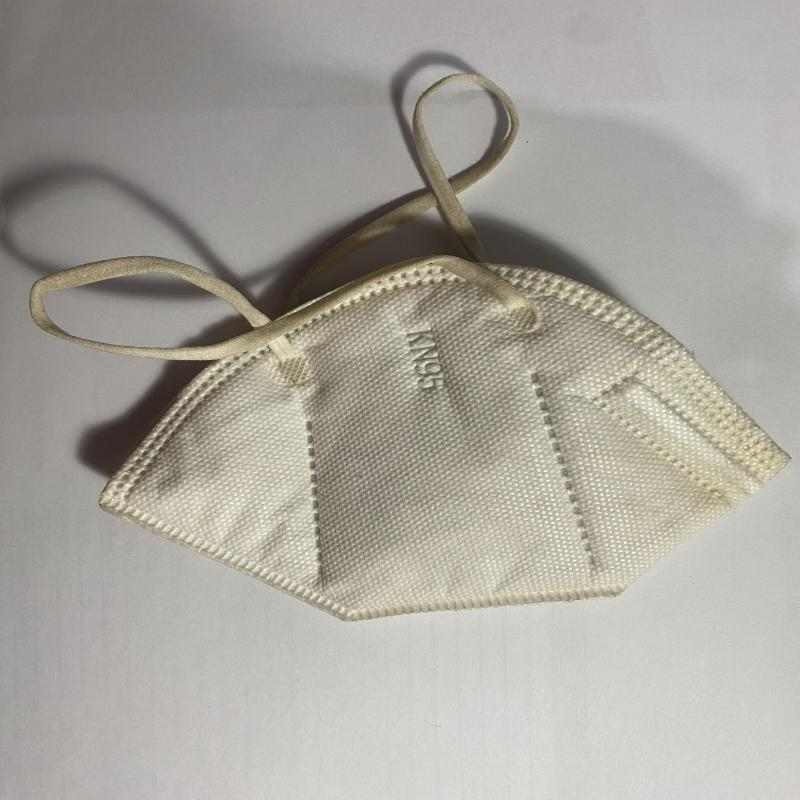facemask: (29, 73, 791, 624)
